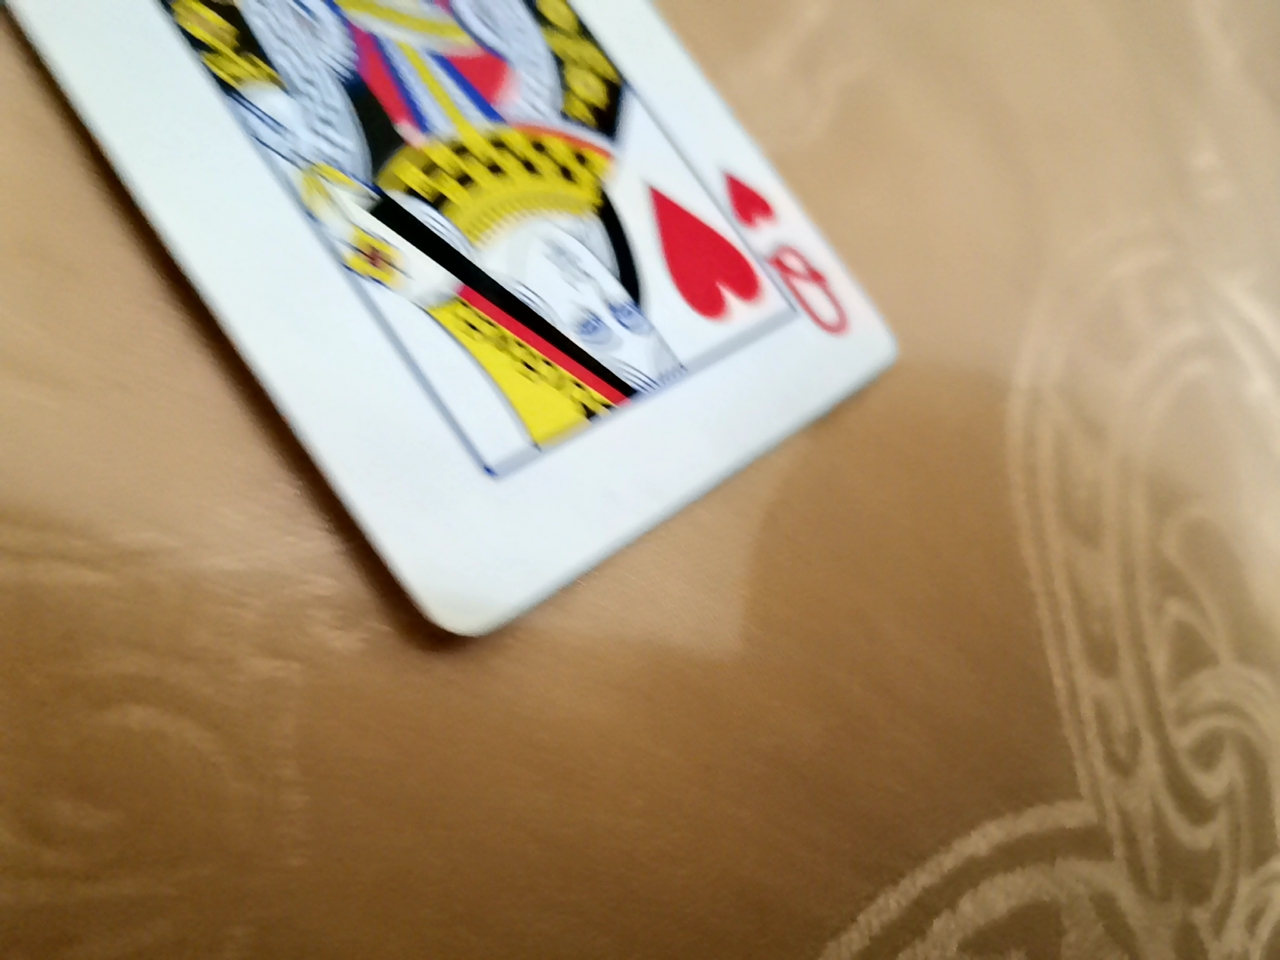hx q: (3, 0, 917, 607)
